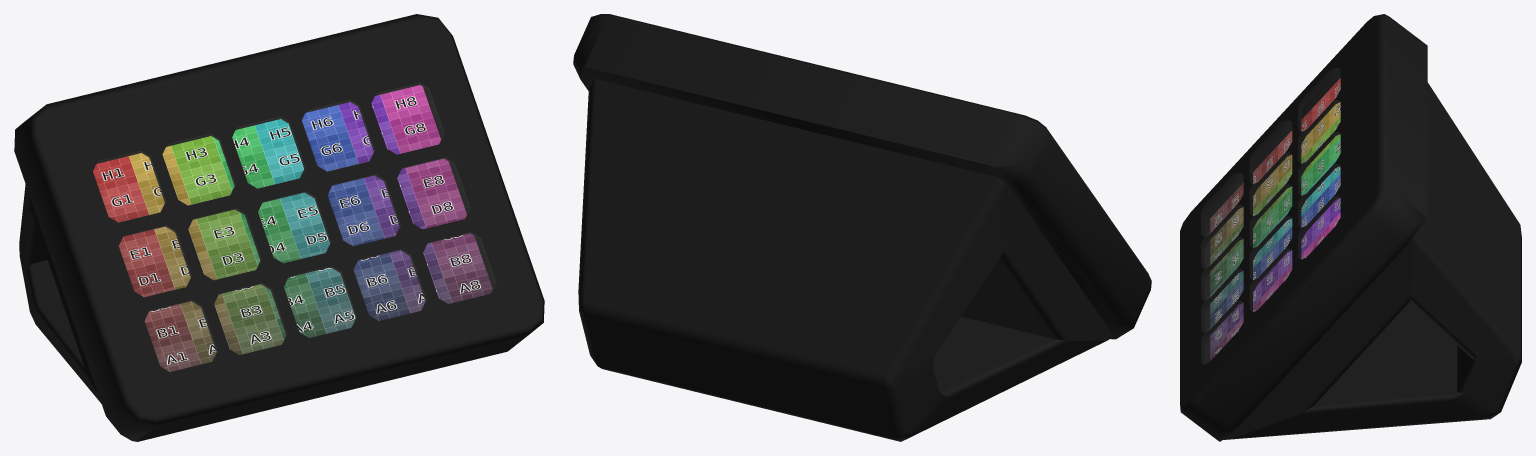
Rendered from tabletop-lcd-buttons-controller.glb.
3 views of the same model, side by side, from view 1: azimuth 30°, elevation 25°; view 2: azimuth 150°, elevation 25°; view 3: azimuth 270°, elevation 25° (orthographic). The views are drawn at different scales.
Parts seen in each view (by area): view 1: Front_baked, __X_SCREEN__.001, Body; view 2: Body, Front_baked; view 3: Front_baked, Body, __X_SCREEN__.001.
Boxes of the visible parts, <box> form: Front_baked: <box>14,14,544,441</box>; __X_SCREEN__.001: <box>93,85,492,371</box>; Body: <box>19,184,101,403</box>; Body: <box>578,79,1114,441</box>; Front_baked: <box>573,14,1151,339</box>; Front_baked: <box>1180,14,1427,441</box>; Body: <box>1223,82,1521,439</box>; __X_SCREEN__.001: <box>1210,78,1340,360</box>.
Size of the model in its own units: 0.12 by 0.0735 by 0.0894.
3 materials, 1 textured.
